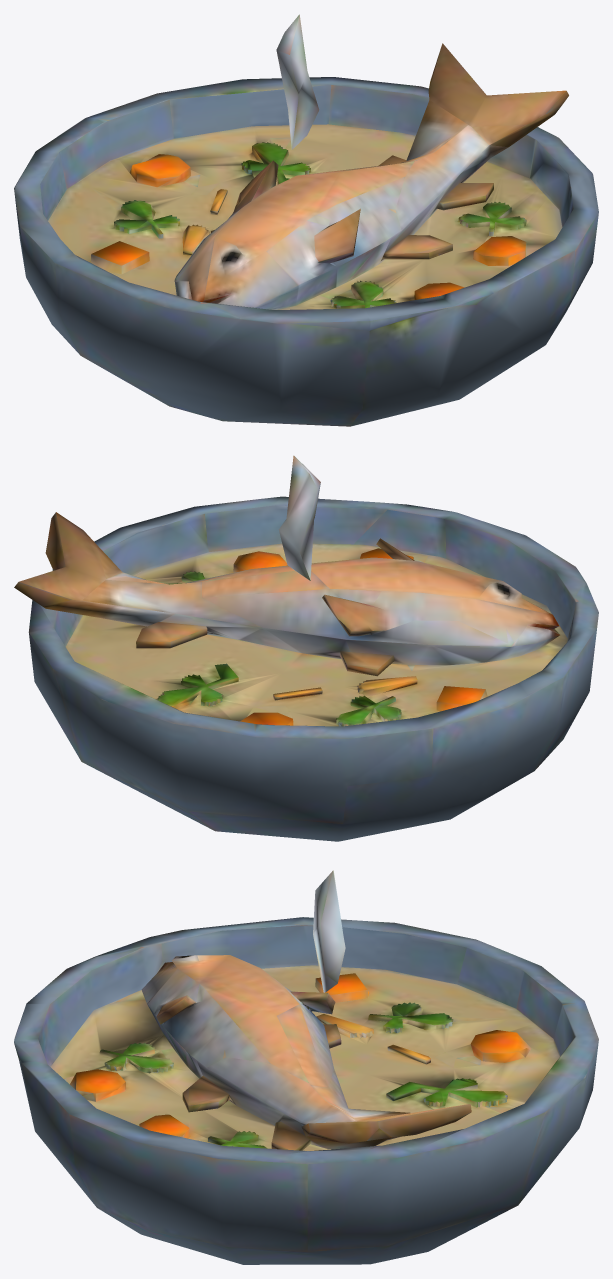
Rendered from g_yutang.glb.
3 views of the same model, one above another, from view 1: azimuth 30°, elevation 25°; view 2: azimuth 150°, elevation 25°; view 3: azimuth 270°, elevation 25° (orthographic).
Visible parts, largest first — view 1: node_0; view 2: node_0; view 3: node_0.
Boxes of the visible parts, left/top/right/bottom form: node_0: left=14, top=14, right=598, bottom=426; node_0: left=14, top=455, right=598, bottom=841; node_0: left=14, top=870, right=598, bottom=1264.
Bounding box in the file's own units: 1.19 × 0.7498 × 1.16.
Materials: 1 (1 with a texture image).
